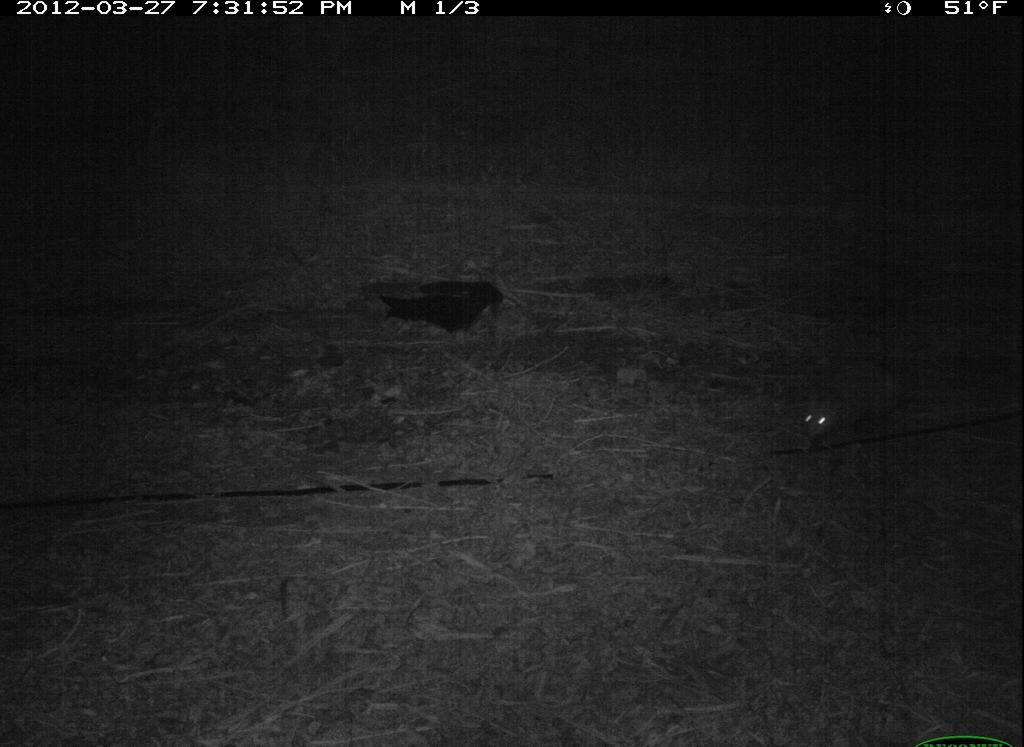opossum: (797, 345, 923, 450)
